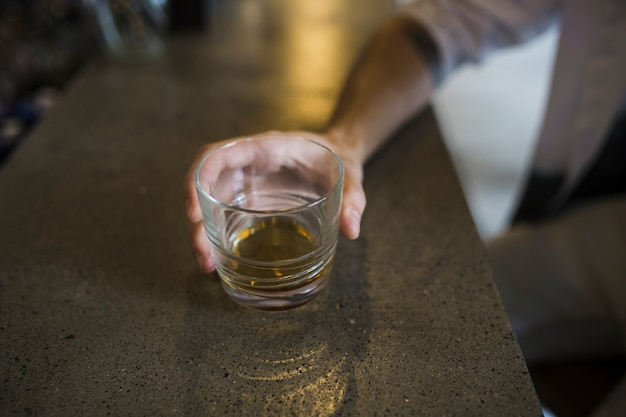alcohol: (195, 137, 346, 311)
